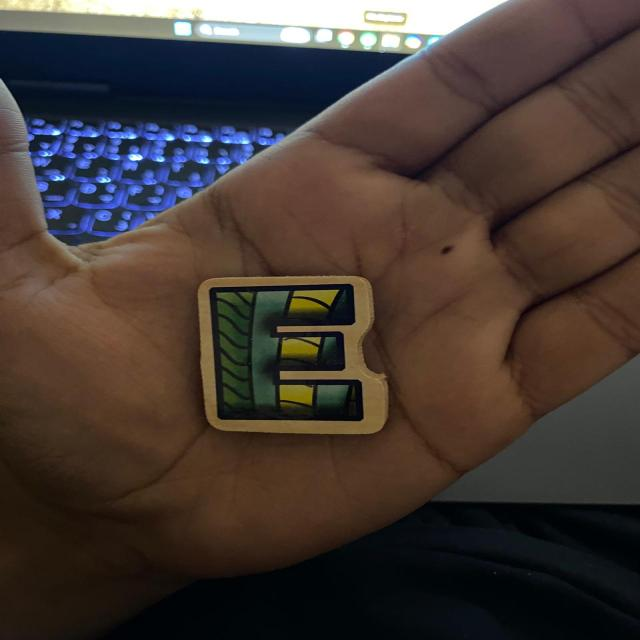E: (199, 276, 387, 434)
